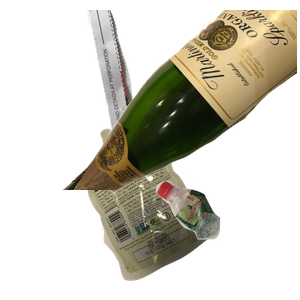glass: (60, 10, 300, 190)
paper: (85, 10, 224, 190)
plastic: (153, 178, 300, 300)
trash: (84, 126, 291, 300)
